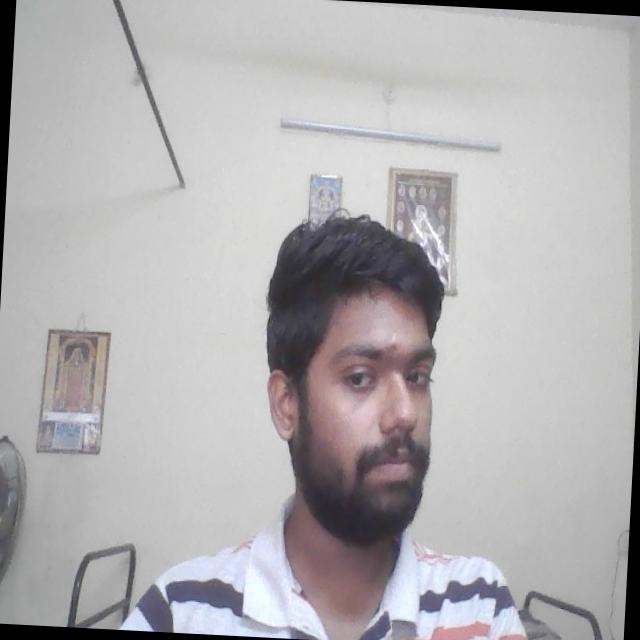Focused: (288, 296, 443, 513)
